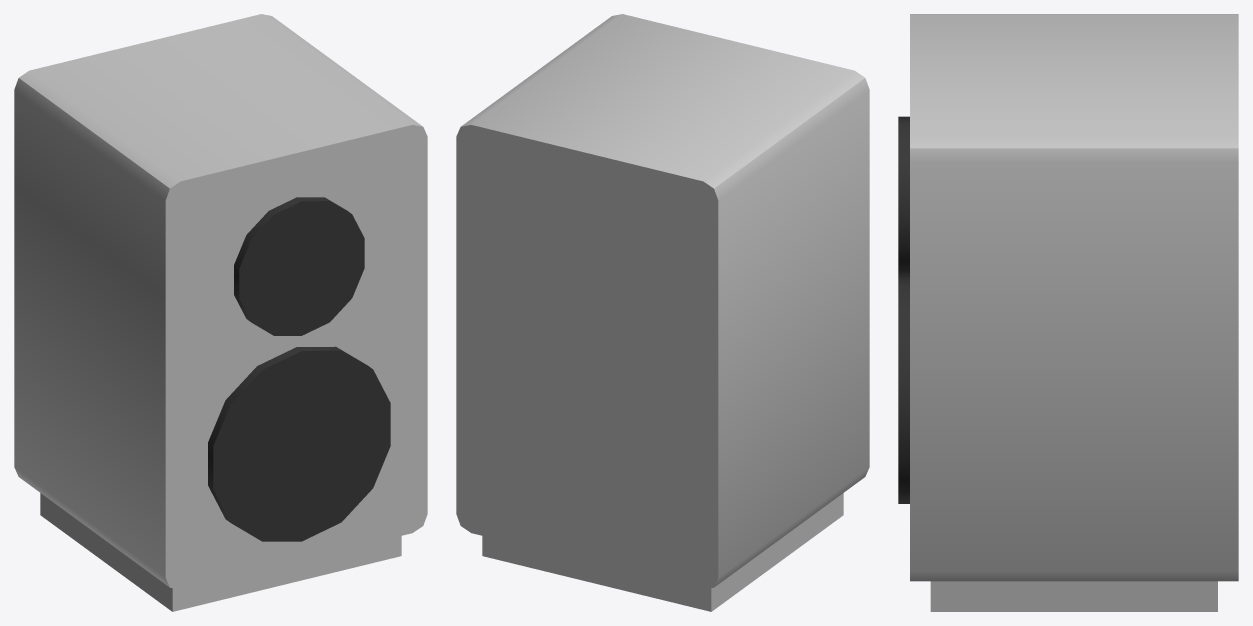
Rendered from Speaker_2.obj.
3 renders of one model, left to right at view 1: azimuth 30°, elevation 25°; view 2: azimuth 150°, elevation 25°; view 3: azimuth 270°, elevation 25°, orthographic. The views are drawn at different scales.
Visible parts, largest first — view 1: Speaker_2; view 2: Speaker_2; view 3: Speaker_2.
Part boxes in pixels (x1=…): Speaker_2: x1=14, y1=14, x2=427, y2=611; Speaker_2: x1=456, y1=14, x2=869, y2=611; Speaker_2: x1=898, y1=14, x2=1238, y2=611.
Size of the model in its own units: 0.11 by 0.1755 by 0.1139.
